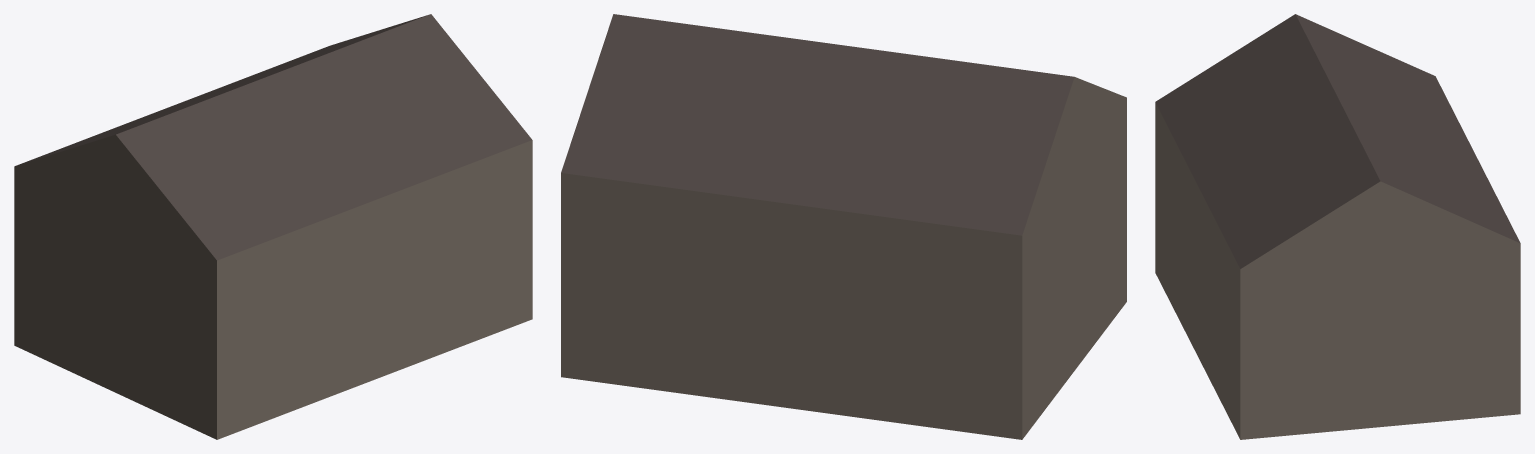
The picture shows the model from 3 angles, left to right: view 1: azimuth 30°, elevation 25°; view 2: azimuth 150°, elevation 25°; view 3: azimuth 270°, elevation 25°; orthographic projection. The views are drawn at different scales.
Visible parts, largest first — view 1: HP-w859424238; view 2: HP-w859424238; view 3: HP-w859424238.
Boxes of the visible parts, x1,y1,x2,y2 form: HP-w859424238: (14, 14, 532, 439); HP-w859424238: (561, 14, 1126, 439); HP-w859424238: (1155, 14, 1520, 439).
Size of the model in its own units: 21.82 by 12.96 by 17.46.
